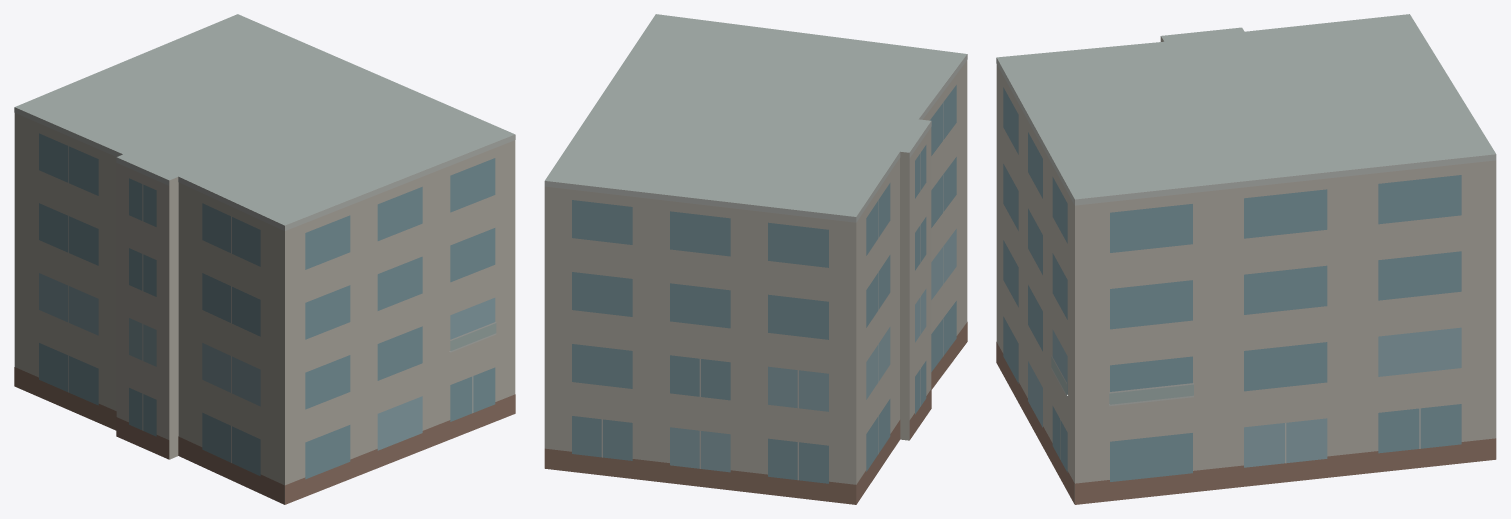
Rendered from survey-upis-32973878.glb.
3 views of the same model, side by side, from view 1: azimuth 30°, elevation 25°; view 2: azimuth 150°, elevation 25°; view 3: azimuth 270°, elevation 25° (orthographic). The views are drawn at different scales.
Visible parts, largest first — view 1: survey-upis-32973878.tmp; view 2: survey-upis-32973878.tmp; view 3: survey-upis-32973878.tmp.
Boxes of the visible parts, box(x1,y1,x2,y2) form: survey-upis-32973878.tmp: box(14, 14, 515, 504); survey-upis-32973878.tmp: box(544, 14, 967, 504); survey-upis-32973878.tmp: box(996, 14, 1496, 504).
Size of the model in its own units: 15.91 by 12.2 by 18.11.
